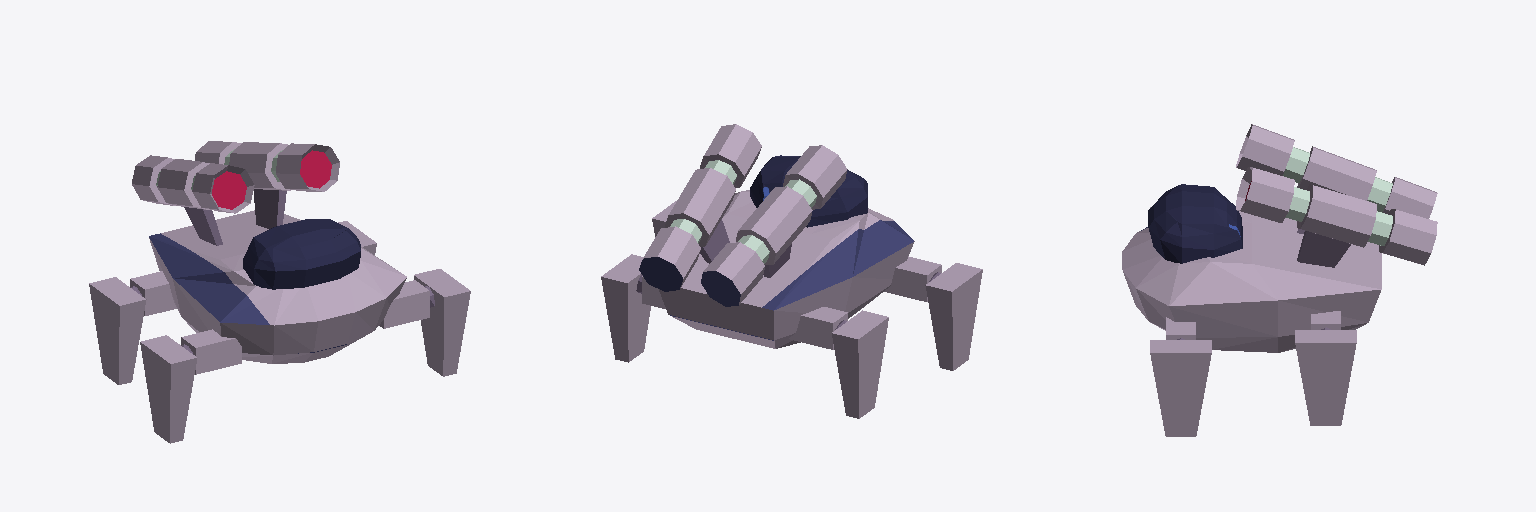
3 renders of one model, left to right at view 1: azimuth 30°, elevation 25°; view 2: azimuth 150°, elevation 25°; view 3: azimuth 270°, elevation 25°, orthographic.
Visible parts, largest first — view 1: Body, Legs, Weapons, Head; view 2: Weapons, Body, Legs, Head; view 3: Body, Weapons, Legs, Head.
Boxes of the visible parts, box(x1,y1,x2,y2) form: Body: box(149, 210, 406, 363); Legs: box(89, 221, 470, 443); Weapons: box(132, 141, 339, 245); Head: box(243, 219, 360, 289); Weapons: box(639, 124, 847, 306); Body: box(659, 190, 914, 348); Legs: box(601, 201, 982, 418); Head: box(750, 155, 867, 227); Body: box(1122, 211, 1381, 352); Weapons: box(1236, 124, 1437, 267); Legs: box(1150, 207, 1356, 436); Head: box(1148, 184, 1242, 263).
Bounding box in the file's own units: 5.61 × 3.96 × 5.11.
Materials: 1 (1 with a texture image).